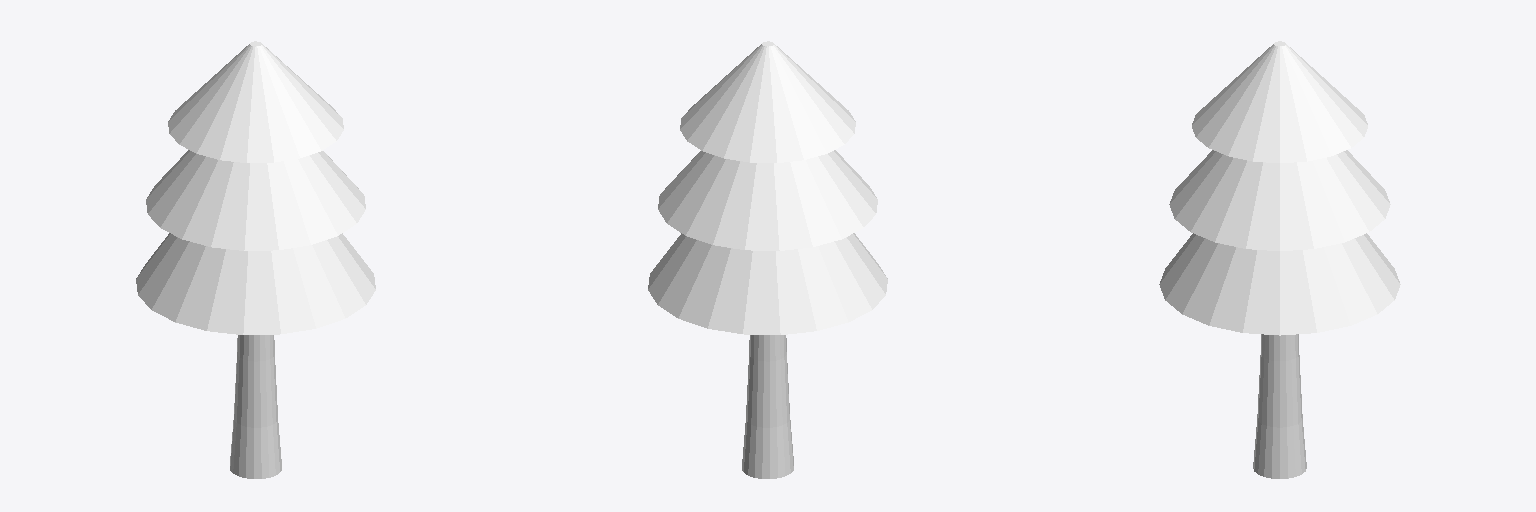
3 renders of one model, left to right at view 1: azimuth 30°, elevation 25°; view 2: azimuth 150°, elevation 25°; view 3: azimuth 270°, elevation 25°, orthographic.
Parts seen in each view (by area): view 1: test; view 2: test; view 3: test.
Boxes of the visible parts, x1,y1,x2,y2 form: test: [136, 41, 375, 478]; test: [648, 41, 887, 478]; test: [1159, 41, 1400, 478].
Size of the model in its own units: 11.16 by 21.62 by 11.16.